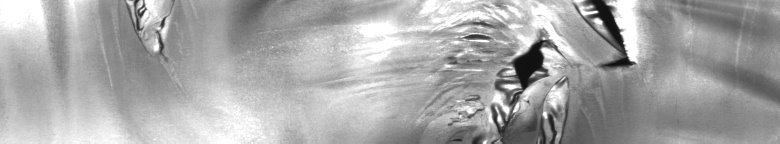ke: (444, 4, 638, 136)
